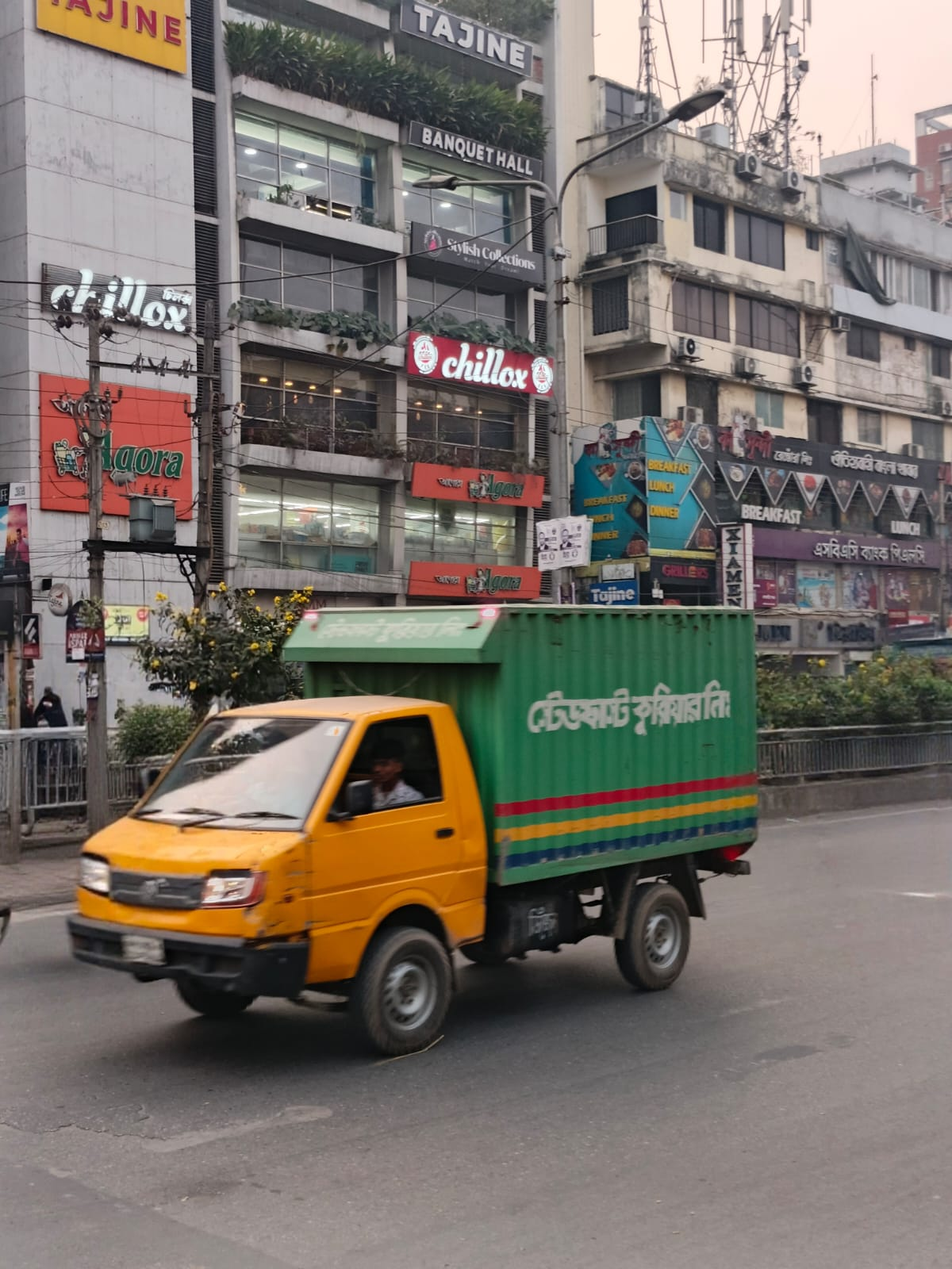Pickup: (42, 545, 819, 1037)
